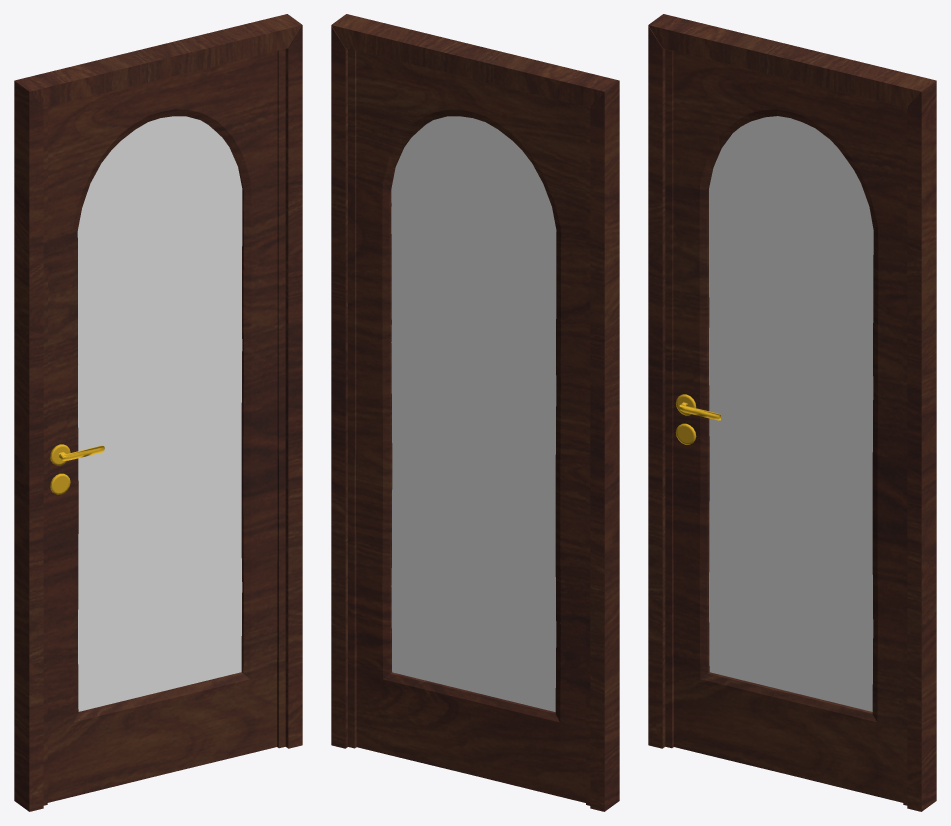
The model's file is PUERTA48_MANCHESTER.glb.
3 renders of one model, left to right at view 1: azimuth 30°, elevation 25°; view 2: azimuth 150°, elevation 25°; view 3: azimuth 330°, elevation 25°, orthographic.
Visible parts, largest first — view 1: CRISTAL_GRANDE, Puerta48_MANCHESTER, Puerta48_Marco, Puerta48_Cerradura; view 2: CRISTAL_GRANDE, Puerta48_MANCHESTER, Puerta48_Marco; view 3: CRISTAL_GRANDE, Puerta48_MANCHESTER, Puerta48_Marco, Puerta48_Cerradura.
Part boxes in pixels (<box>): CRISTAL_GRANDE: <box>77,116,242,711</box>; Puerta48_MANCHESTER: <box>43,49,285,805</box>; Puerta48_Marco: <box>14,14,302,811</box>; Puerta48_Cerradura: <box>50,444,104,494</box>; CRISTAL_GRANDE: <box>391,116,556,711</box>; Puerta48_MANCHESTER: <box>348,49,590,805</box>; Puerta48_Marco: <box>331,14,619,811</box>; CRISTAL_GRANDE: <box>709,116,873,711</box>; Puerta48_MANCHESTER: <box>665,49,907,805</box>; Puerta48_Marco: <box>648,14,936,811</box>; Puerta48_Cerradura: <box>675,394,721,444</box>.
Size of the model in its own units: 769 by 1936 by 85.
Materials: 5 (3 with a texture image).
